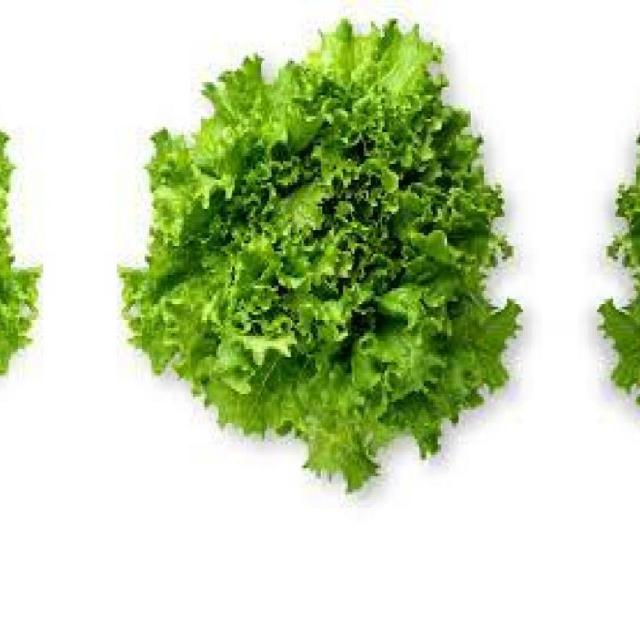healthy: (130, 19, 524, 488), (595, 19, 640, 488), (0, 19, 30, 488)
